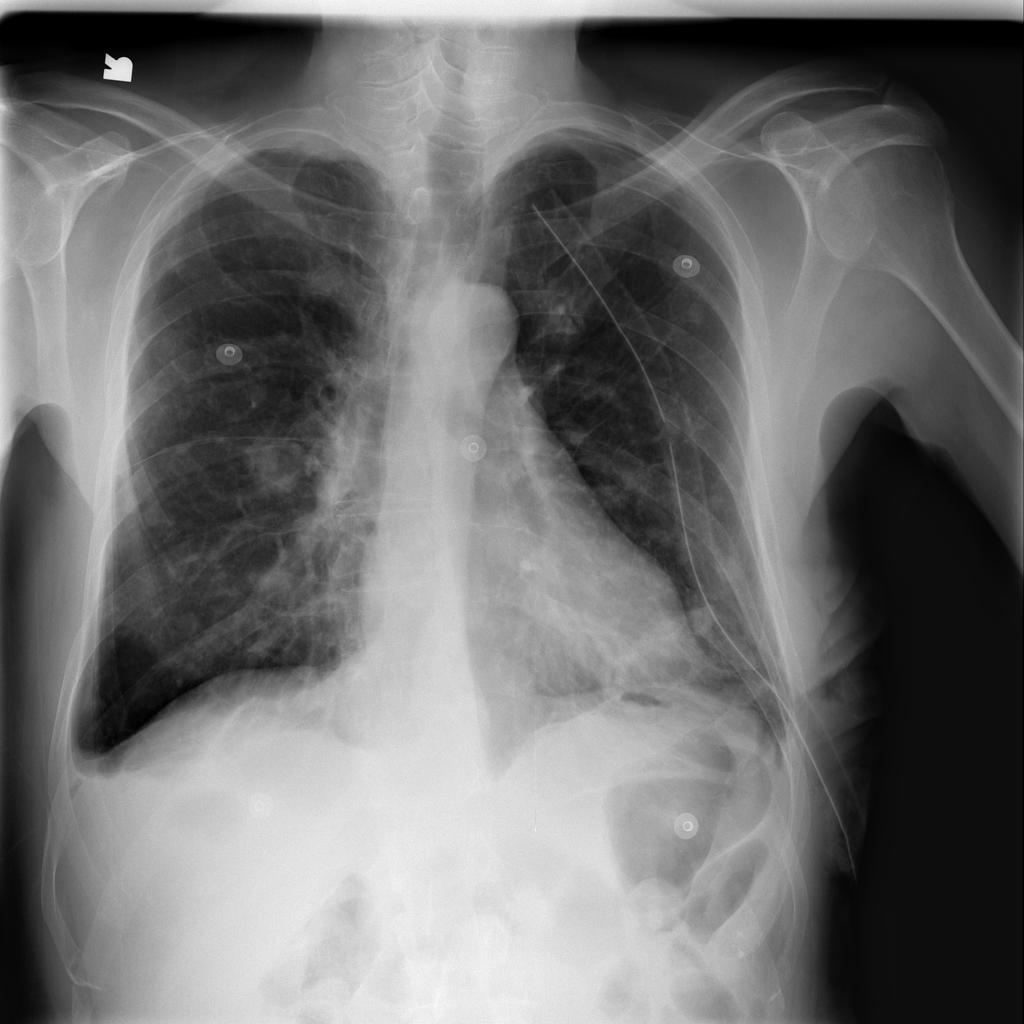nodule: (236, 422, 308, 506), (693, 531, 764, 600), (147, 236, 198, 285), (675, 286, 722, 339), (154, 423, 207, 470), (679, 594, 728, 643)
